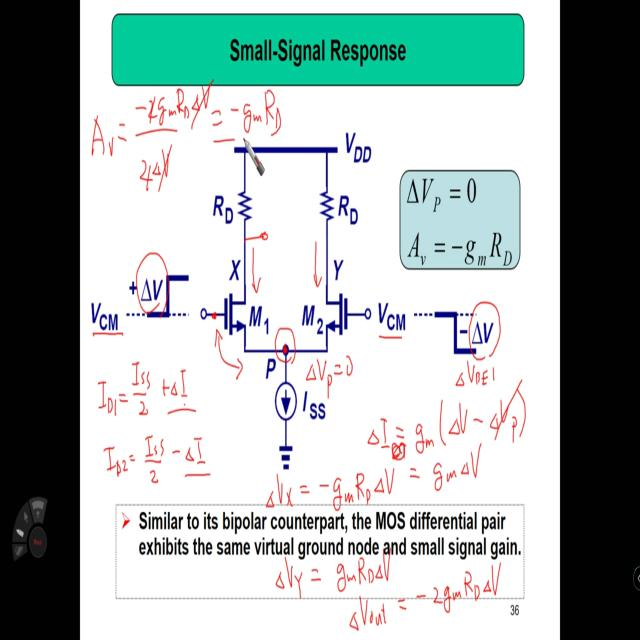panseo: (255, 440, 507, 635), (85, 78, 290, 190), (90, 351, 221, 507), (359, 356, 543, 465), (302, 349, 364, 397)
